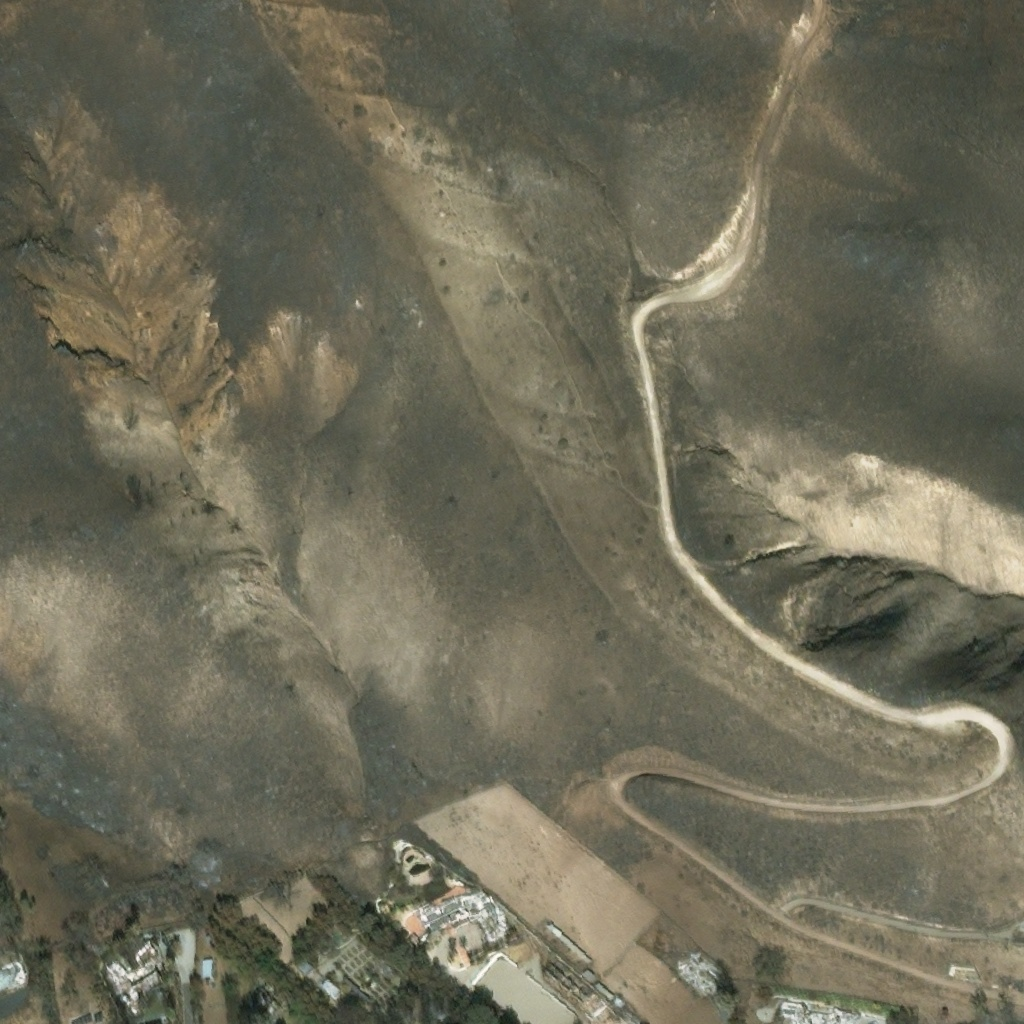0 no-damage: (472, 951, 577, 1023), (541, 963, 618, 1023), (545, 920, 591, 962), (320, 980, 339, 1000), (594, 982, 614, 1000), (581, 968, 594, 981)
3 destroyed: (414, 885, 507, 941), (774, 993, 855, 1023), (676, 949, 714, 989), (946, 960, 977, 975), (374, 957, 392, 974), (406, 930, 419, 945)
